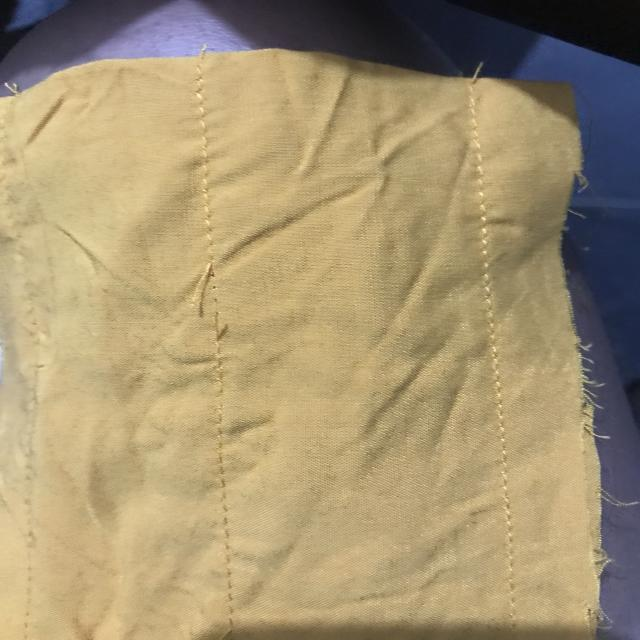broken: (178, 237, 249, 357)
good: (481, 354, 527, 511)
